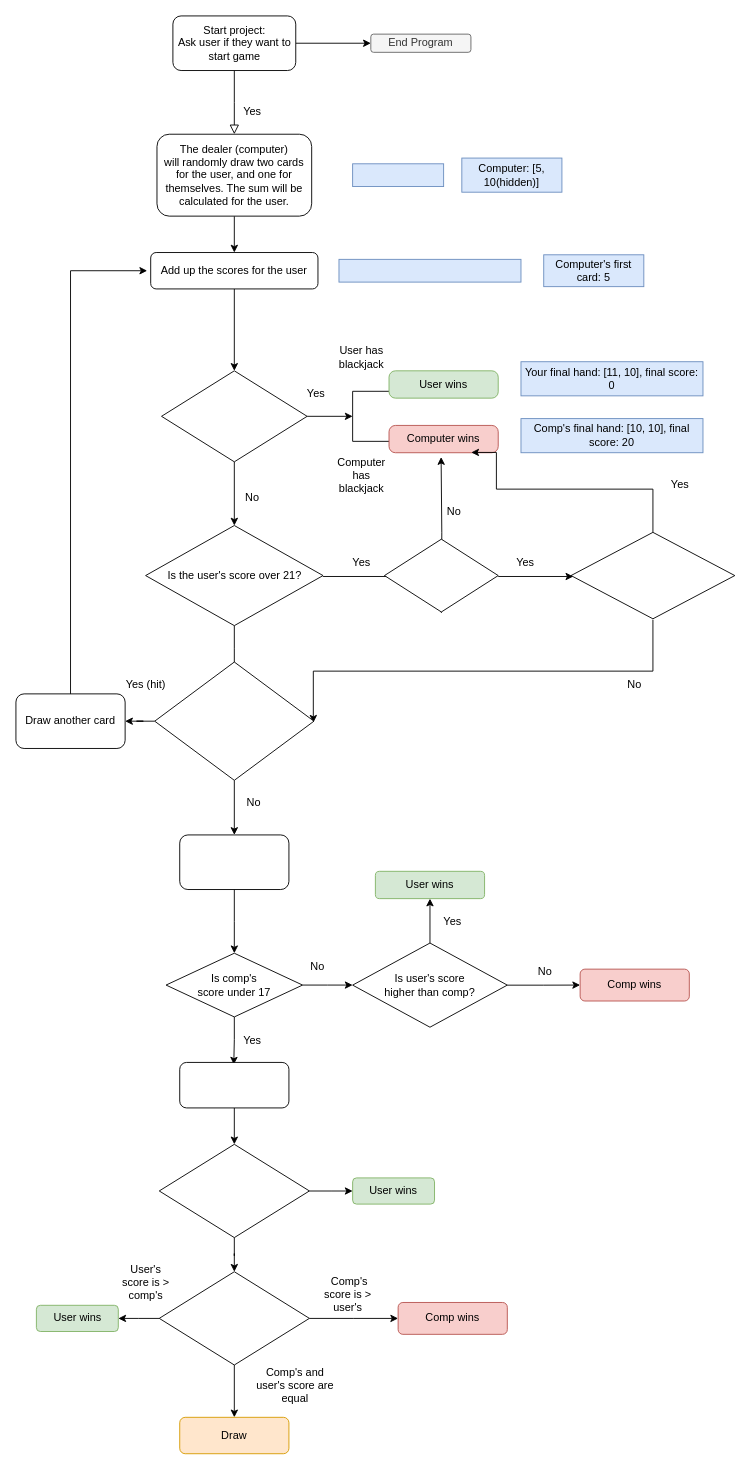
The diagram is 751 pixels wide and 1470 high, and some of its shapes have lost their labels. Each missing label, with the box of its shape:
Check if either the user or comp have a blackjack: (161, 370, 307, 462)
Compare user's and comp's score: (158, 1271, 309, 1365)
Computer draws another card: (179, 1062, 289, 1108)
Computer plays: (179, 834, 289, 890)
Does the user have an ace?: (384, 538, 498, 612)
Does the user want to hit or stand: (154, 661, 314, 780)
Is the comp over 21?: (158, 1143, 309, 1238)
The aces count as 1. Is the user sill over 21?: (570, 531, 735, 619)
User: [2, 10]: (352, 163, 444, 187)
Your cars: [2, 10], current score: 12: (338, 258, 521, 282)
